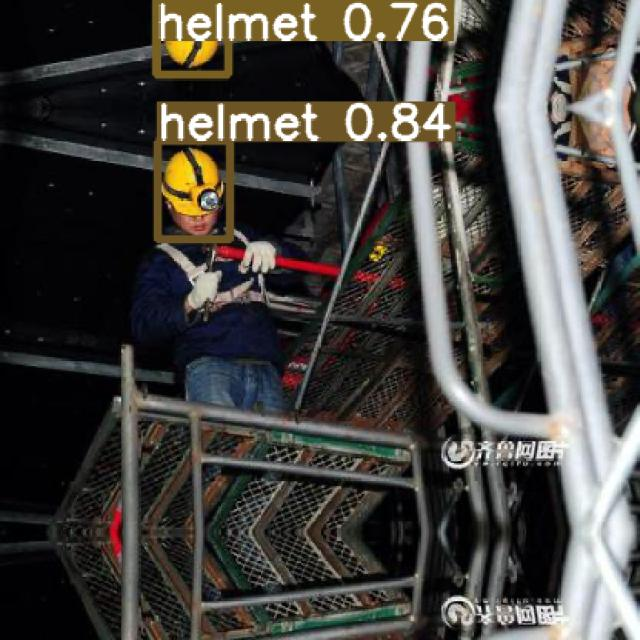helmet: (157, 140, 229, 238), (155, 0, 228, 74)
